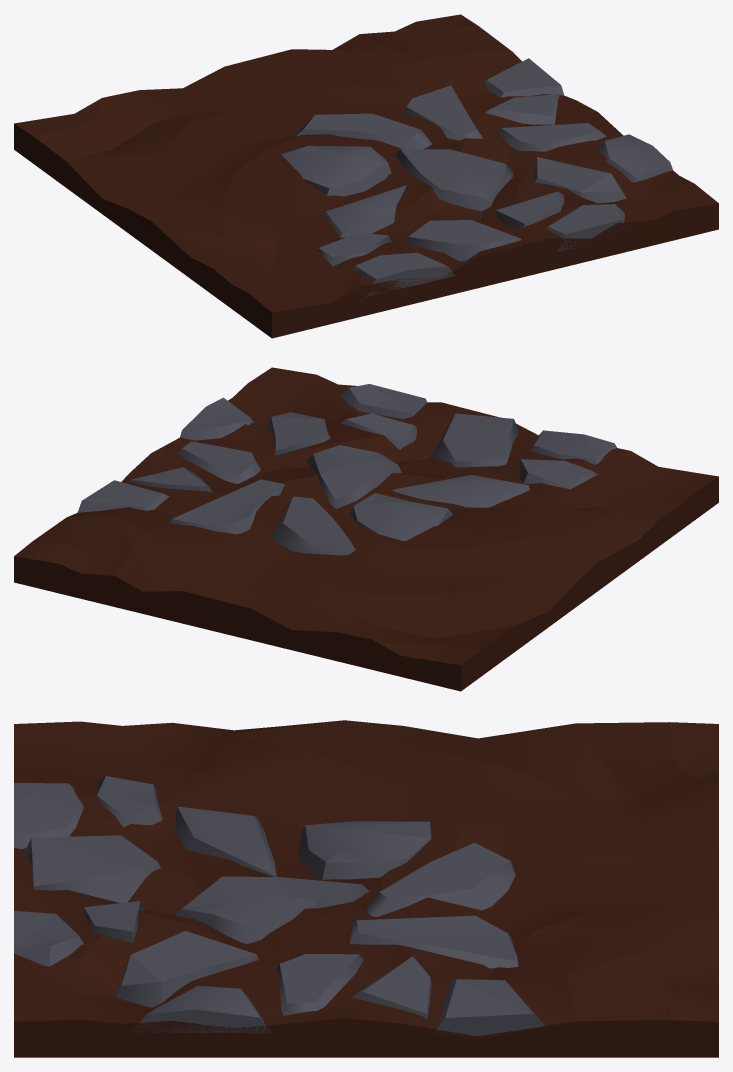
File: Ground_Stone_Path_Turn_LU.fbx
3 renders of one model, top to bottom at view 1: azimuth 30°, elevation 25°; view 2: azimuth 150°, elevation 25°; view 3: azimuth 270°, elevation 25°, orthographic. The views are drawn at different scales.
Visible parts, largest first — view 1: Ground_Stone_Path_Turn_LU; view 2: Ground_Stone_Path_Turn_LU; view 3: Ground_Stone_Path_Turn_LU.
Boxes of the visible parts, bbox=[...] form: Ground_Stone_Path_Turn_LU: bbox=[14, 14, 718, 338]; Ground_Stone_Path_Turn_LU: bbox=[14, 367, 718, 691]; Ground_Stone_Path_Turn_LU: bbox=[14, 720, 718, 1057].
Bounding box in the file's own units: 147 × 13.39 × 147.
